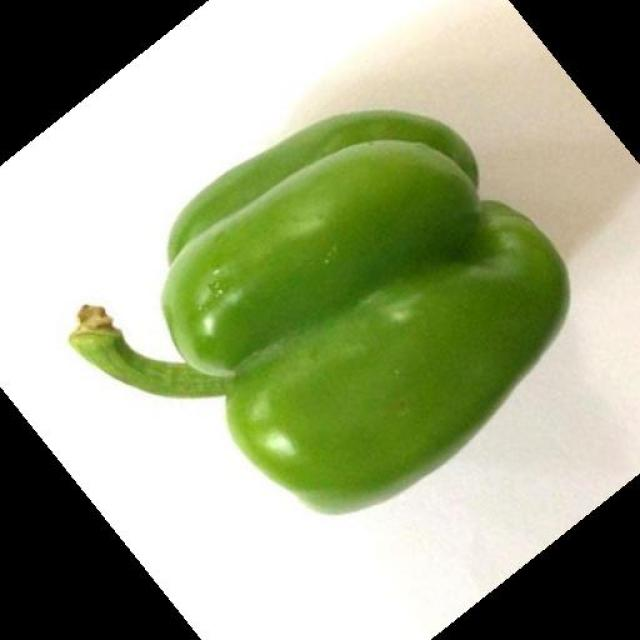Fresh_Capsicum: (157, 168, 566, 492)
